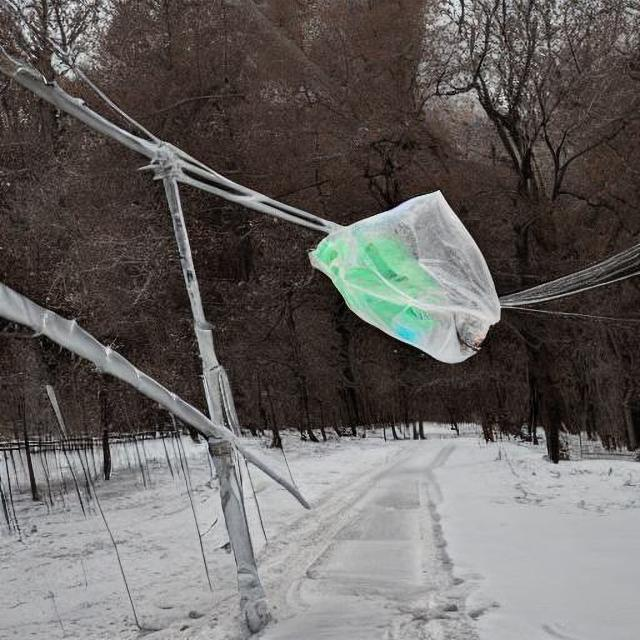plastic bag: (314, 196, 494, 354)
